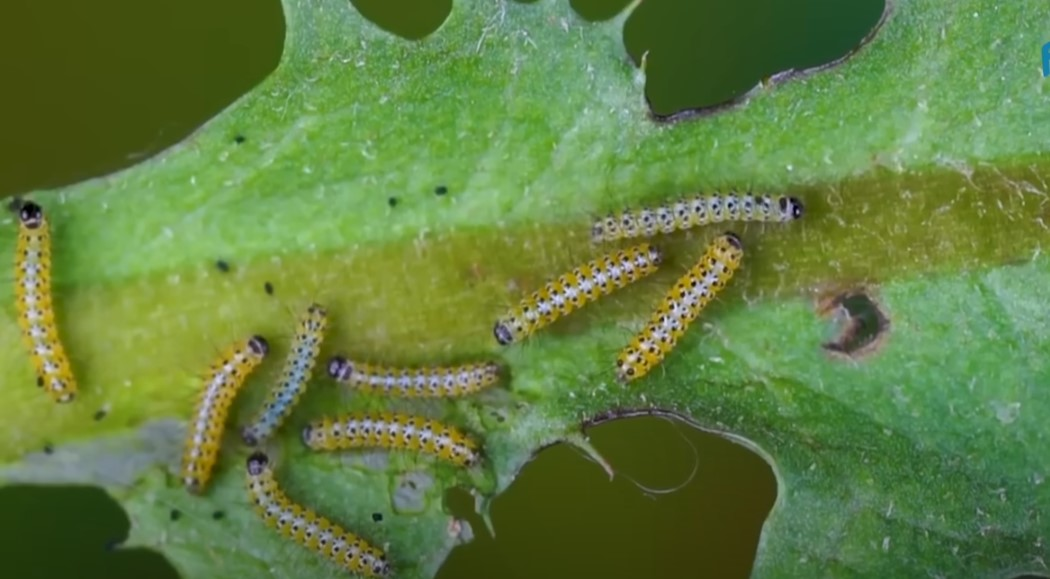Caterpillar: (613, 232, 746, 386), (243, 452, 394, 578), (493, 241, 670, 348), (14, 200, 82, 407), (182, 334, 267, 499), (244, 302, 330, 449), (592, 185, 808, 243), (301, 409, 488, 470), (326, 350, 510, 400)
